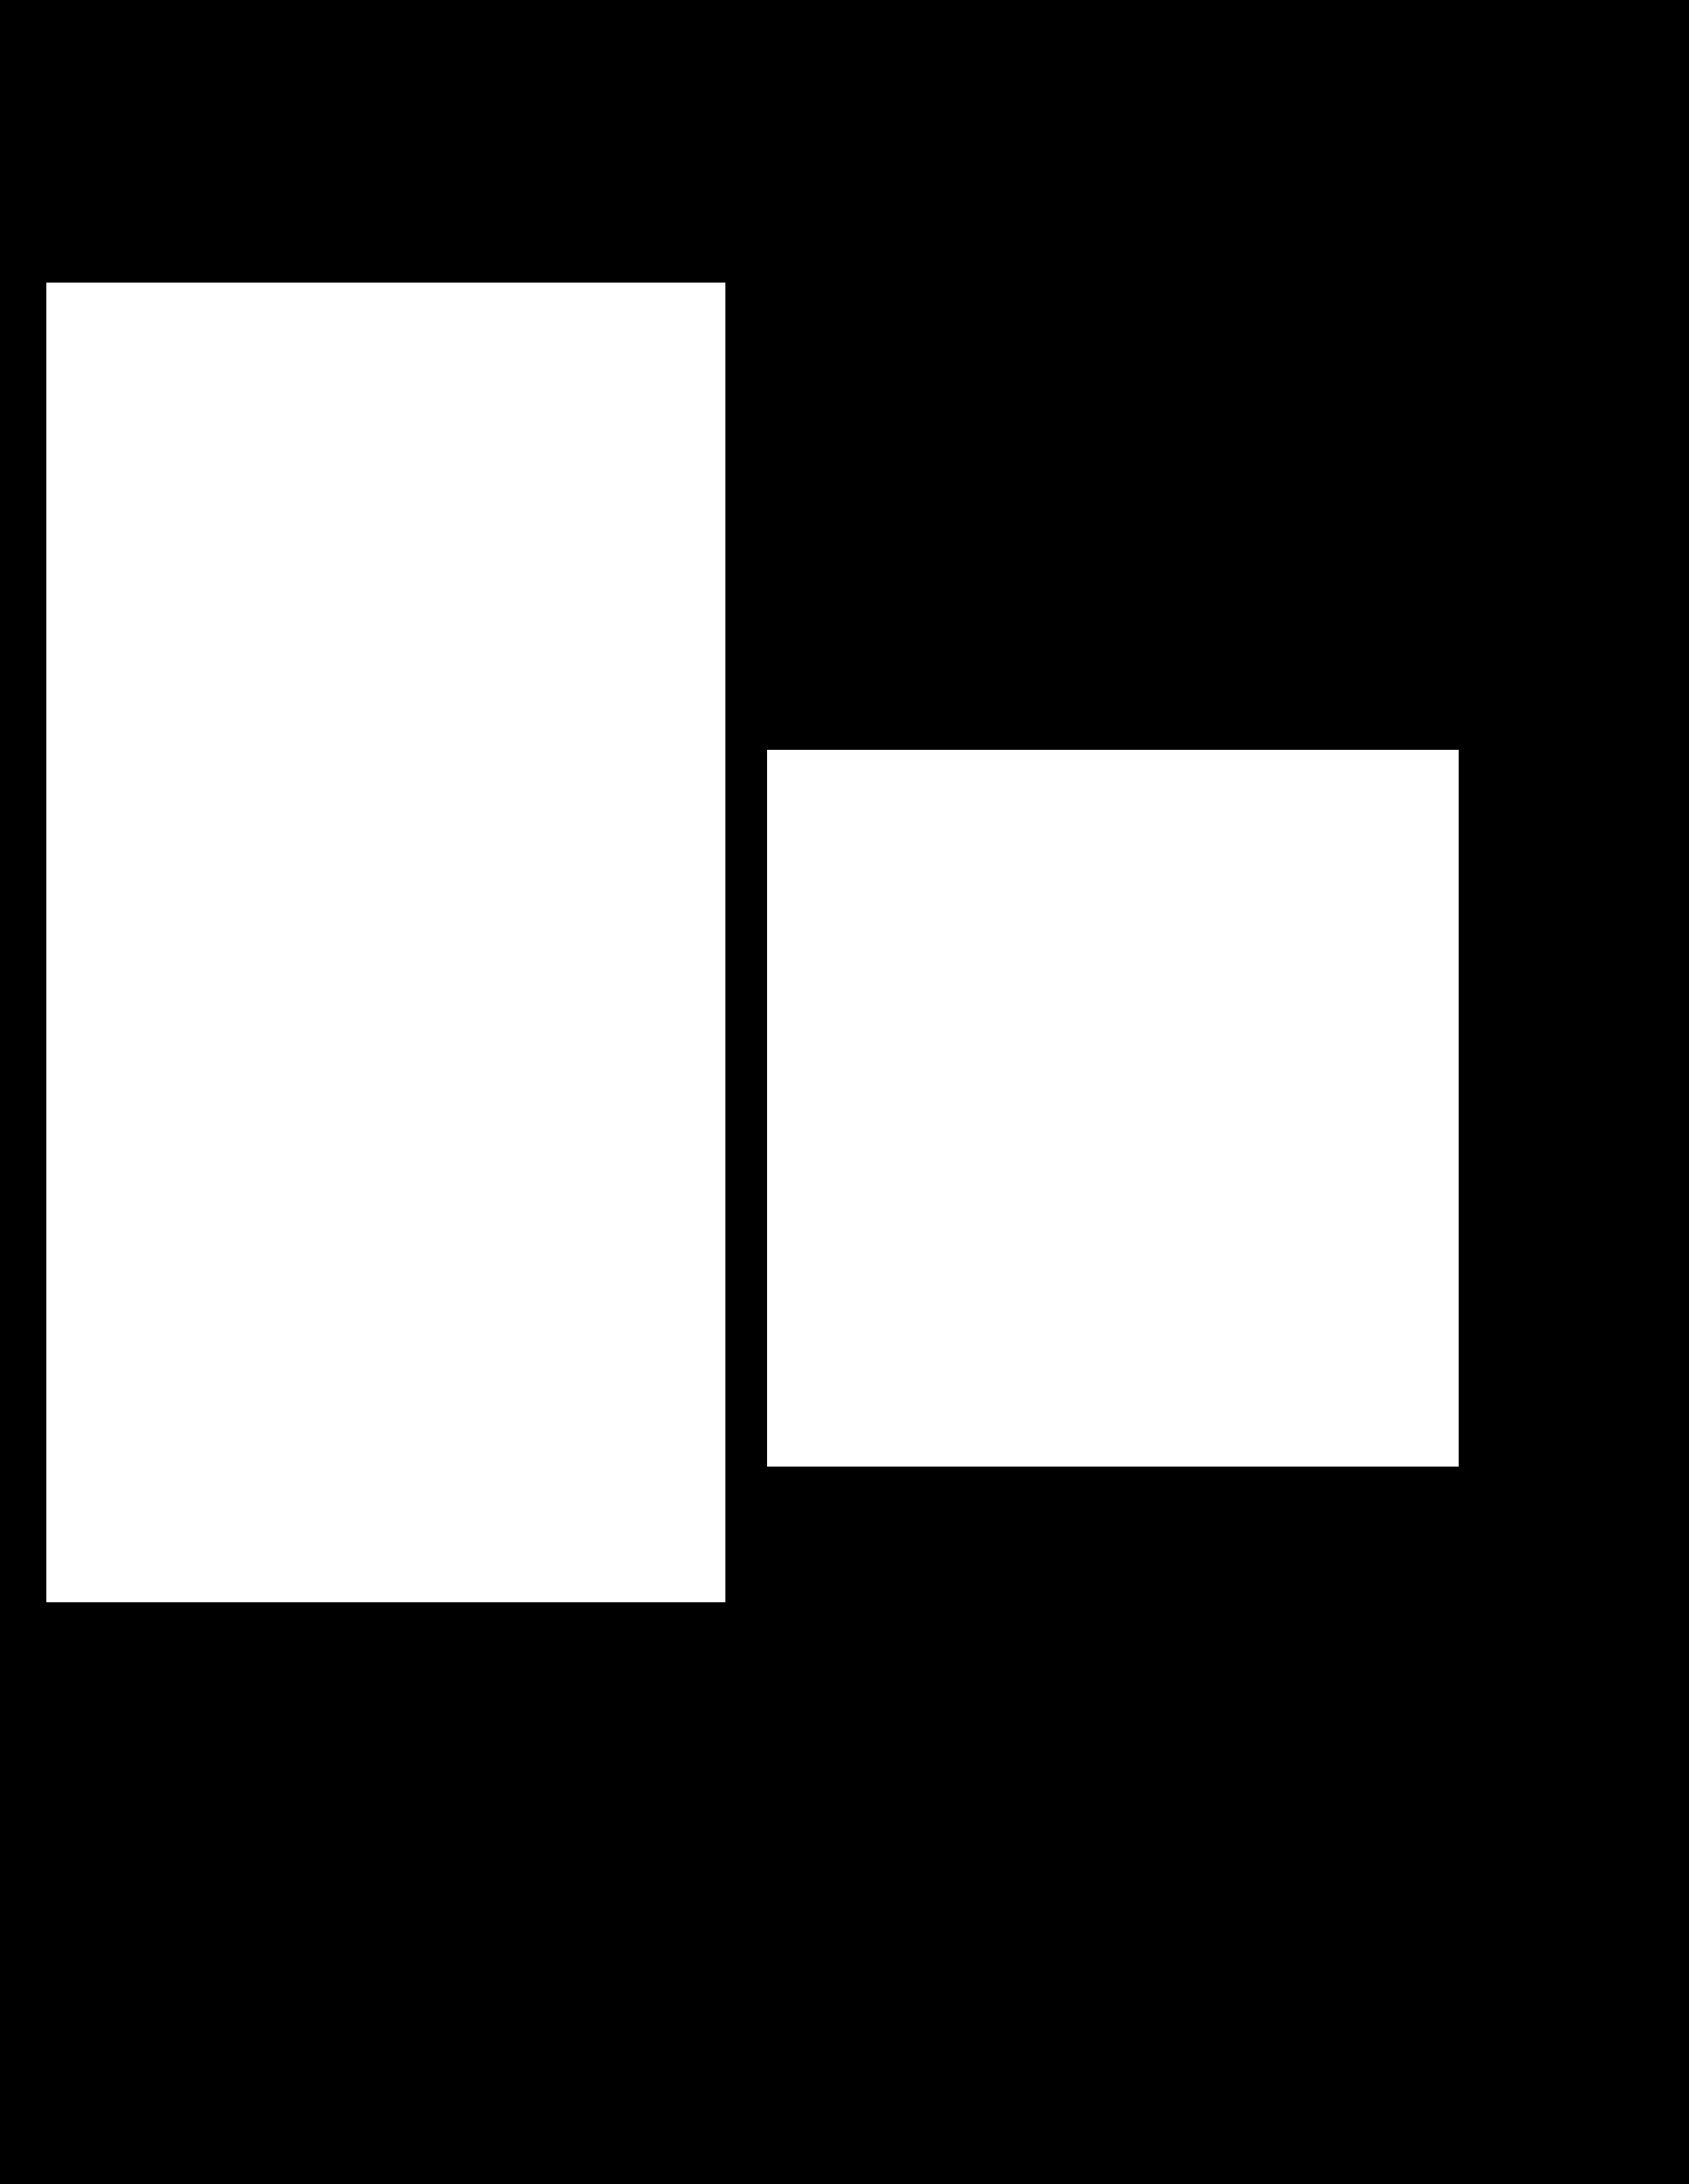table: (46, 282, 725, 1601), (767, 750, 1459, 1466)
